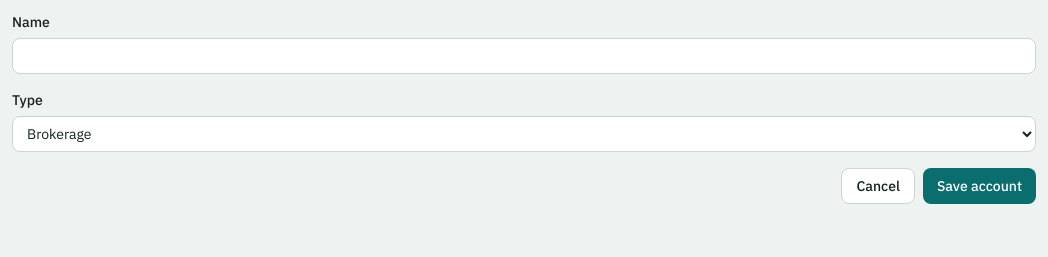
Test: AccountForm › shows a server conflict inline without closing
Step 1. Type "Main" into the field labelled "Name" → (524, 56), box [12,38,1036,74]
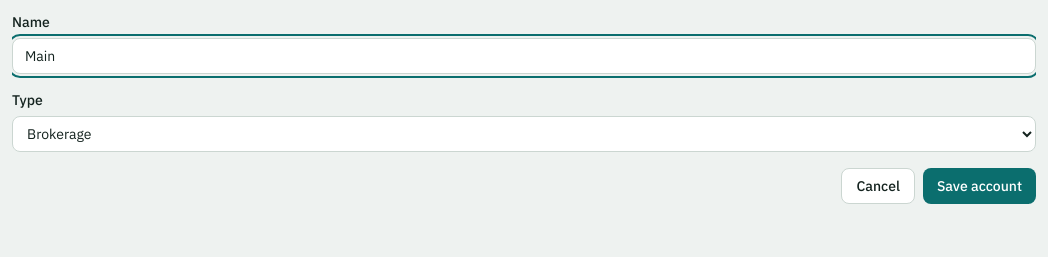
Step 2. Click the button "Save account" → (979, 186), box [923,168,1036,204]
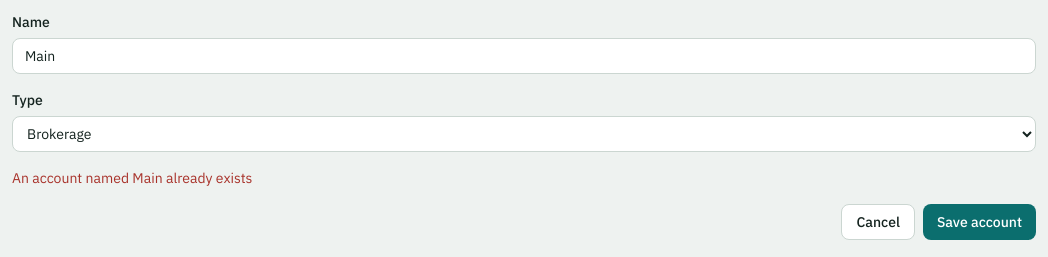
Expected: the message reads "An account named Main already exists", [12,169,252,187]
